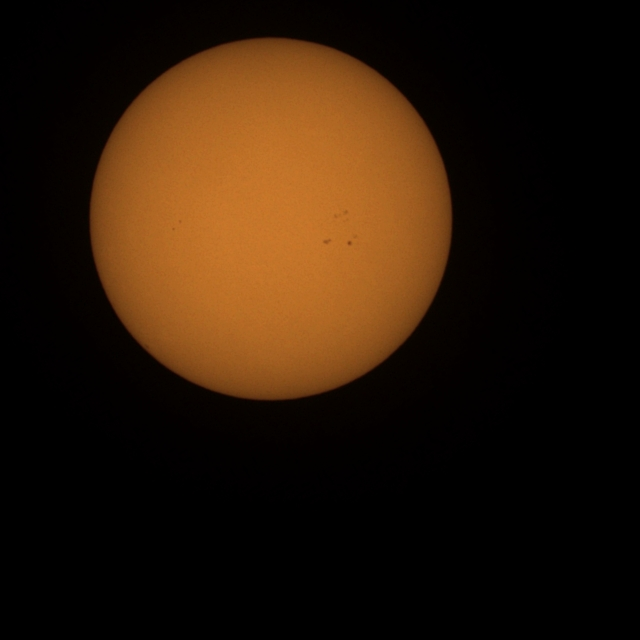sunspot: (334, 210, 350, 222), (172, 219, 182, 232), (347, 235, 357, 246), (322, 238, 332, 245), (346, 238, 353, 246), (172, 226, 176, 232), (178, 220, 182, 226)
